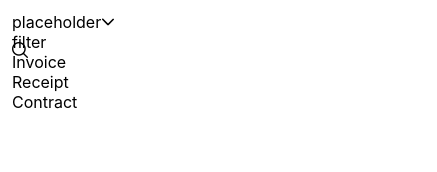
Scenario: TagPicker — owned tag search box and its clear (#286) › shows a clear control labelled from document.search_clear only once text is typed
Type "rec" into the search field with class "tp-filter-input" at (136, 42), box [12,32,260,52]
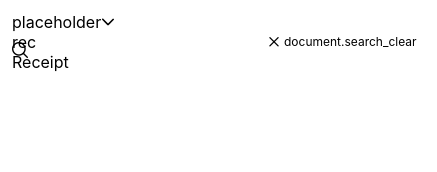
Now the button with class "tp-filter-clear" reads "document.search_clear", box [264,34,420,50]
